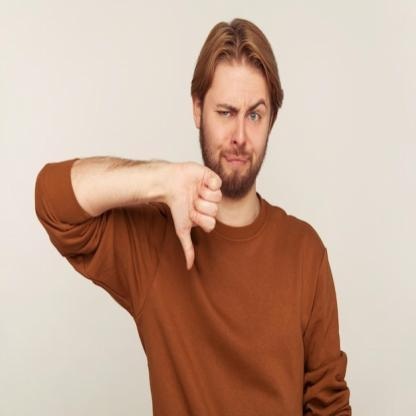thumb_down: (168, 158, 223, 273)
